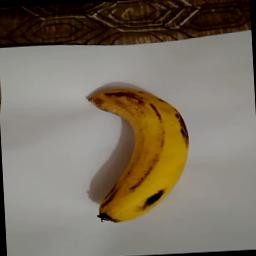Banana Unripe: (80, 78, 196, 229)
